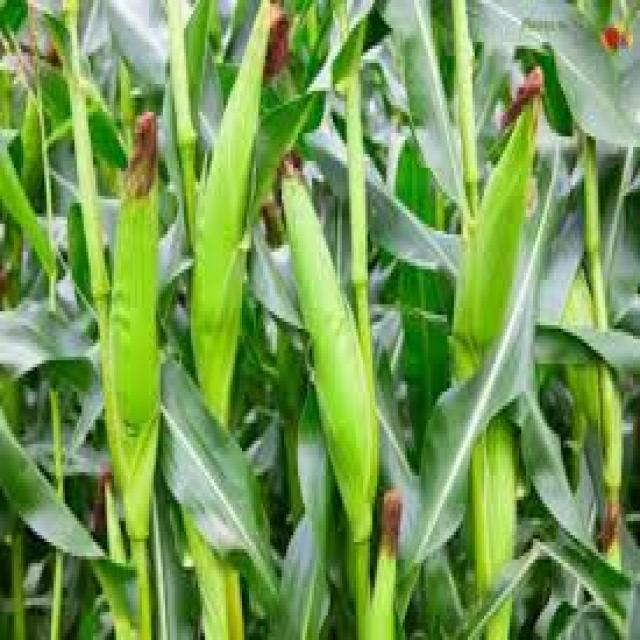Corn: (252, 112, 424, 559), (86, 105, 210, 511), (182, 18, 274, 538), (461, 49, 572, 469)
